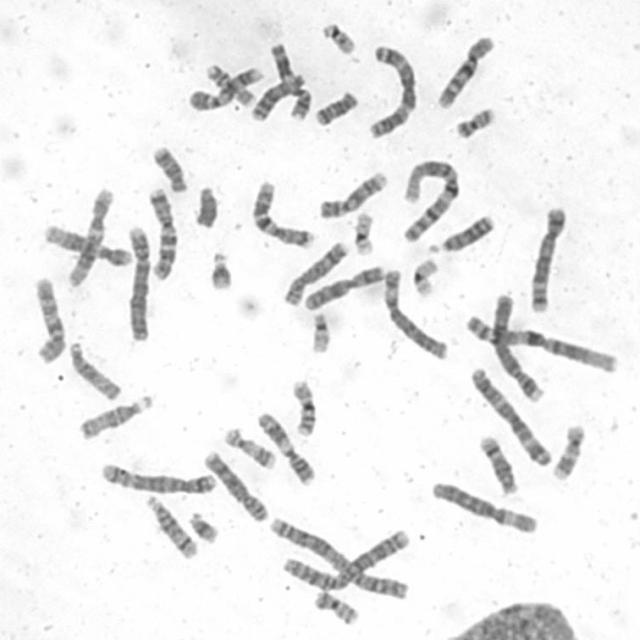A1: (462, 311, 622, 375), (399, 156, 461, 245)
A2: (266, 514, 412, 600), (280, 529, 411, 592)
A3: (466, 364, 553, 468), (365, 41, 420, 139)
B4: (488, 290, 546, 404), (124, 222, 152, 342)
B5: (526, 203, 569, 314), (98, 458, 218, 496)
C10: (433, 31, 496, 111), (29, 272, 68, 365)
C11: (254, 408, 317, 488), (268, 42, 312, 120)
C12: (64, 184, 115, 288), (41, 221, 133, 268)
C6: (379, 265, 450, 361), (428, 477, 540, 536)
C7: (248, 178, 316, 249), (146, 184, 180, 282)
C8: (201, 448, 270, 524), (279, 237, 350, 307)
C9: (186, 62, 264, 112), (316, 168, 390, 220)
D13: (250, 70, 307, 124), (425, 212, 496, 254)
D14: (142, 493, 199, 561), (476, 432, 519, 496)
D15: (77, 391, 156, 441), (66, 338, 123, 402)
E16: (203, 61, 258, 110), (288, 376, 318, 438)
E17: (221, 424, 278, 472), (548, 423, 588, 482)
E18: (149, 143, 189, 194), (310, 88, 360, 127)
F19: (408, 254, 441, 299), (350, 210, 378, 255)
F20: (312, 589, 361, 627), (452, 104, 497, 139)
G21: (206, 247, 235, 292), (186, 508, 220, 544)
G22: (319, 19, 359, 56), (307, 309, 333, 355)
X: (301, 261, 385, 312)
Y: (191, 182, 221, 230)
